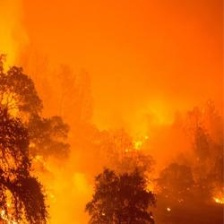fire: (2, 201, 26, 223), (134, 135, 149, 150)
